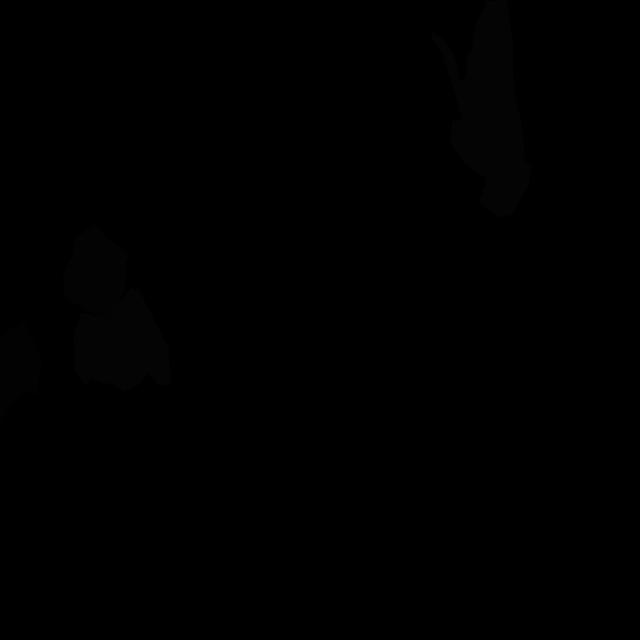cardboard: (0, 319, 42, 424)
metal: (63, 224, 129, 320)
soft_plastic: (431, 0, 532, 217), (74, 286, 171, 392)
